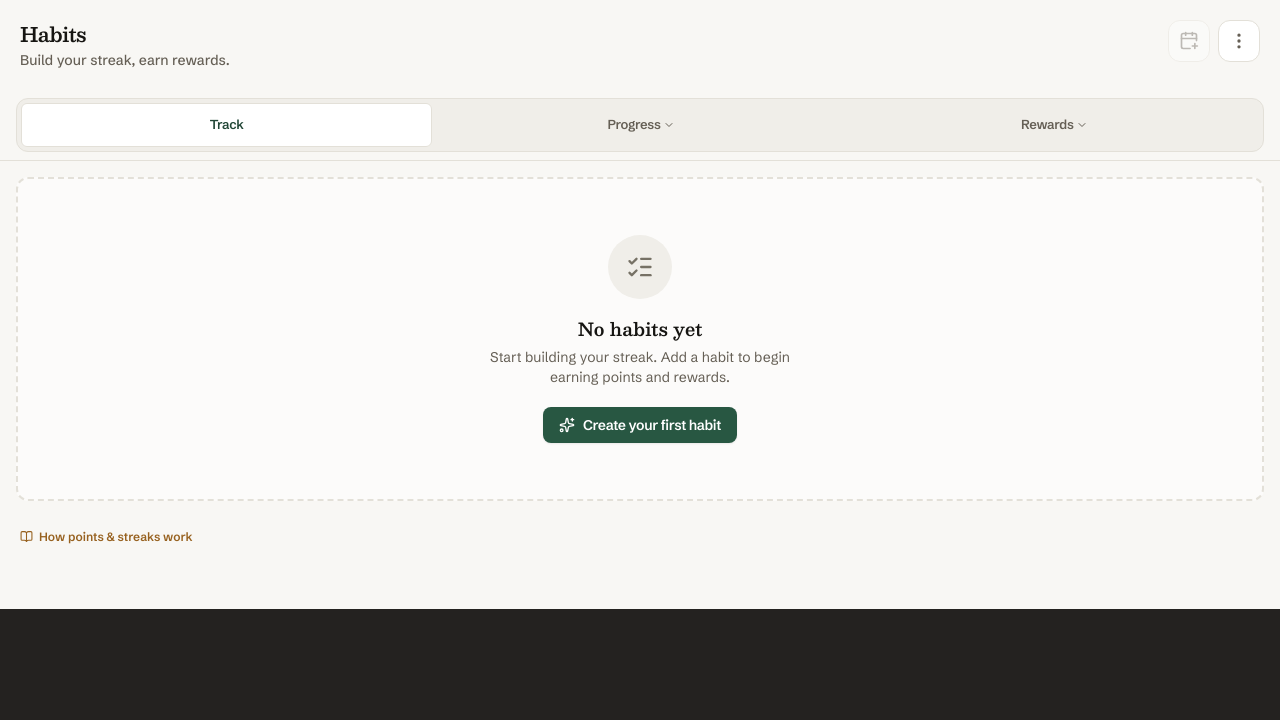
Test: Habits Page Export › disables export button when there are no habits
Click the button named "habit actions menu": (1239, 41) [1218,20,1260,62]
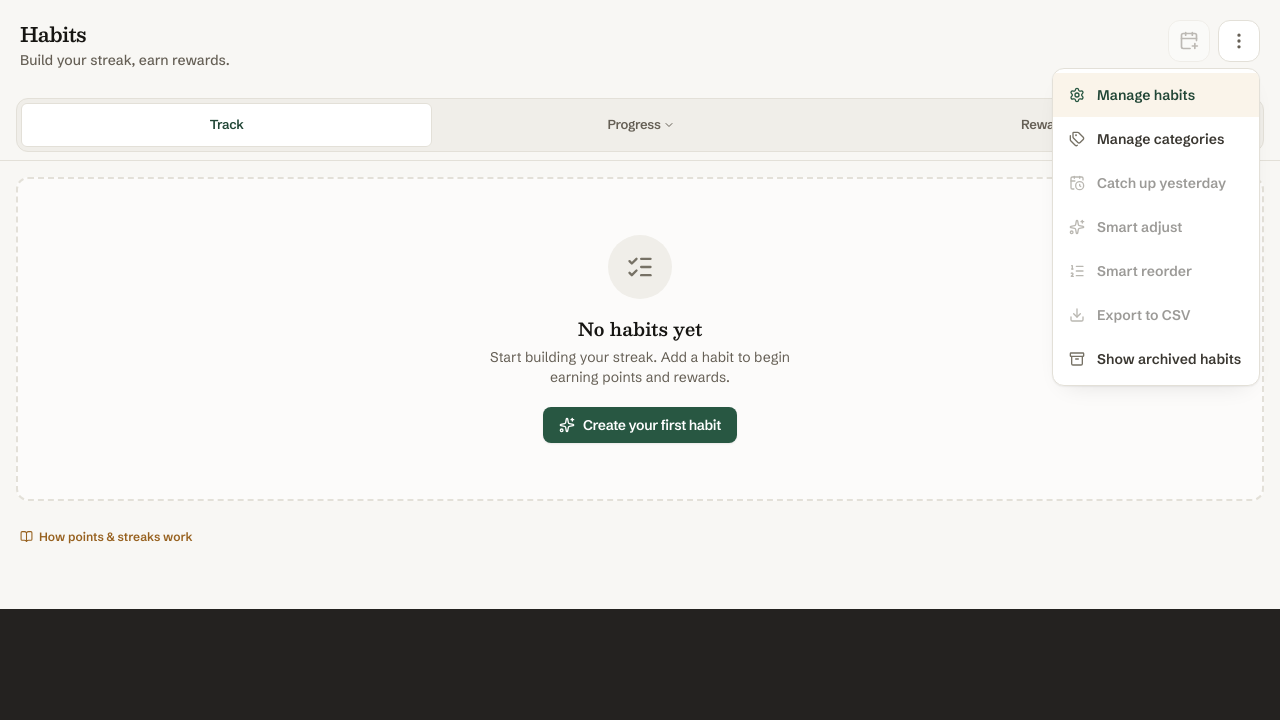
Now the menu item with aria-label "export habits to csv" is disabled, box [1053,293,1259,337]
